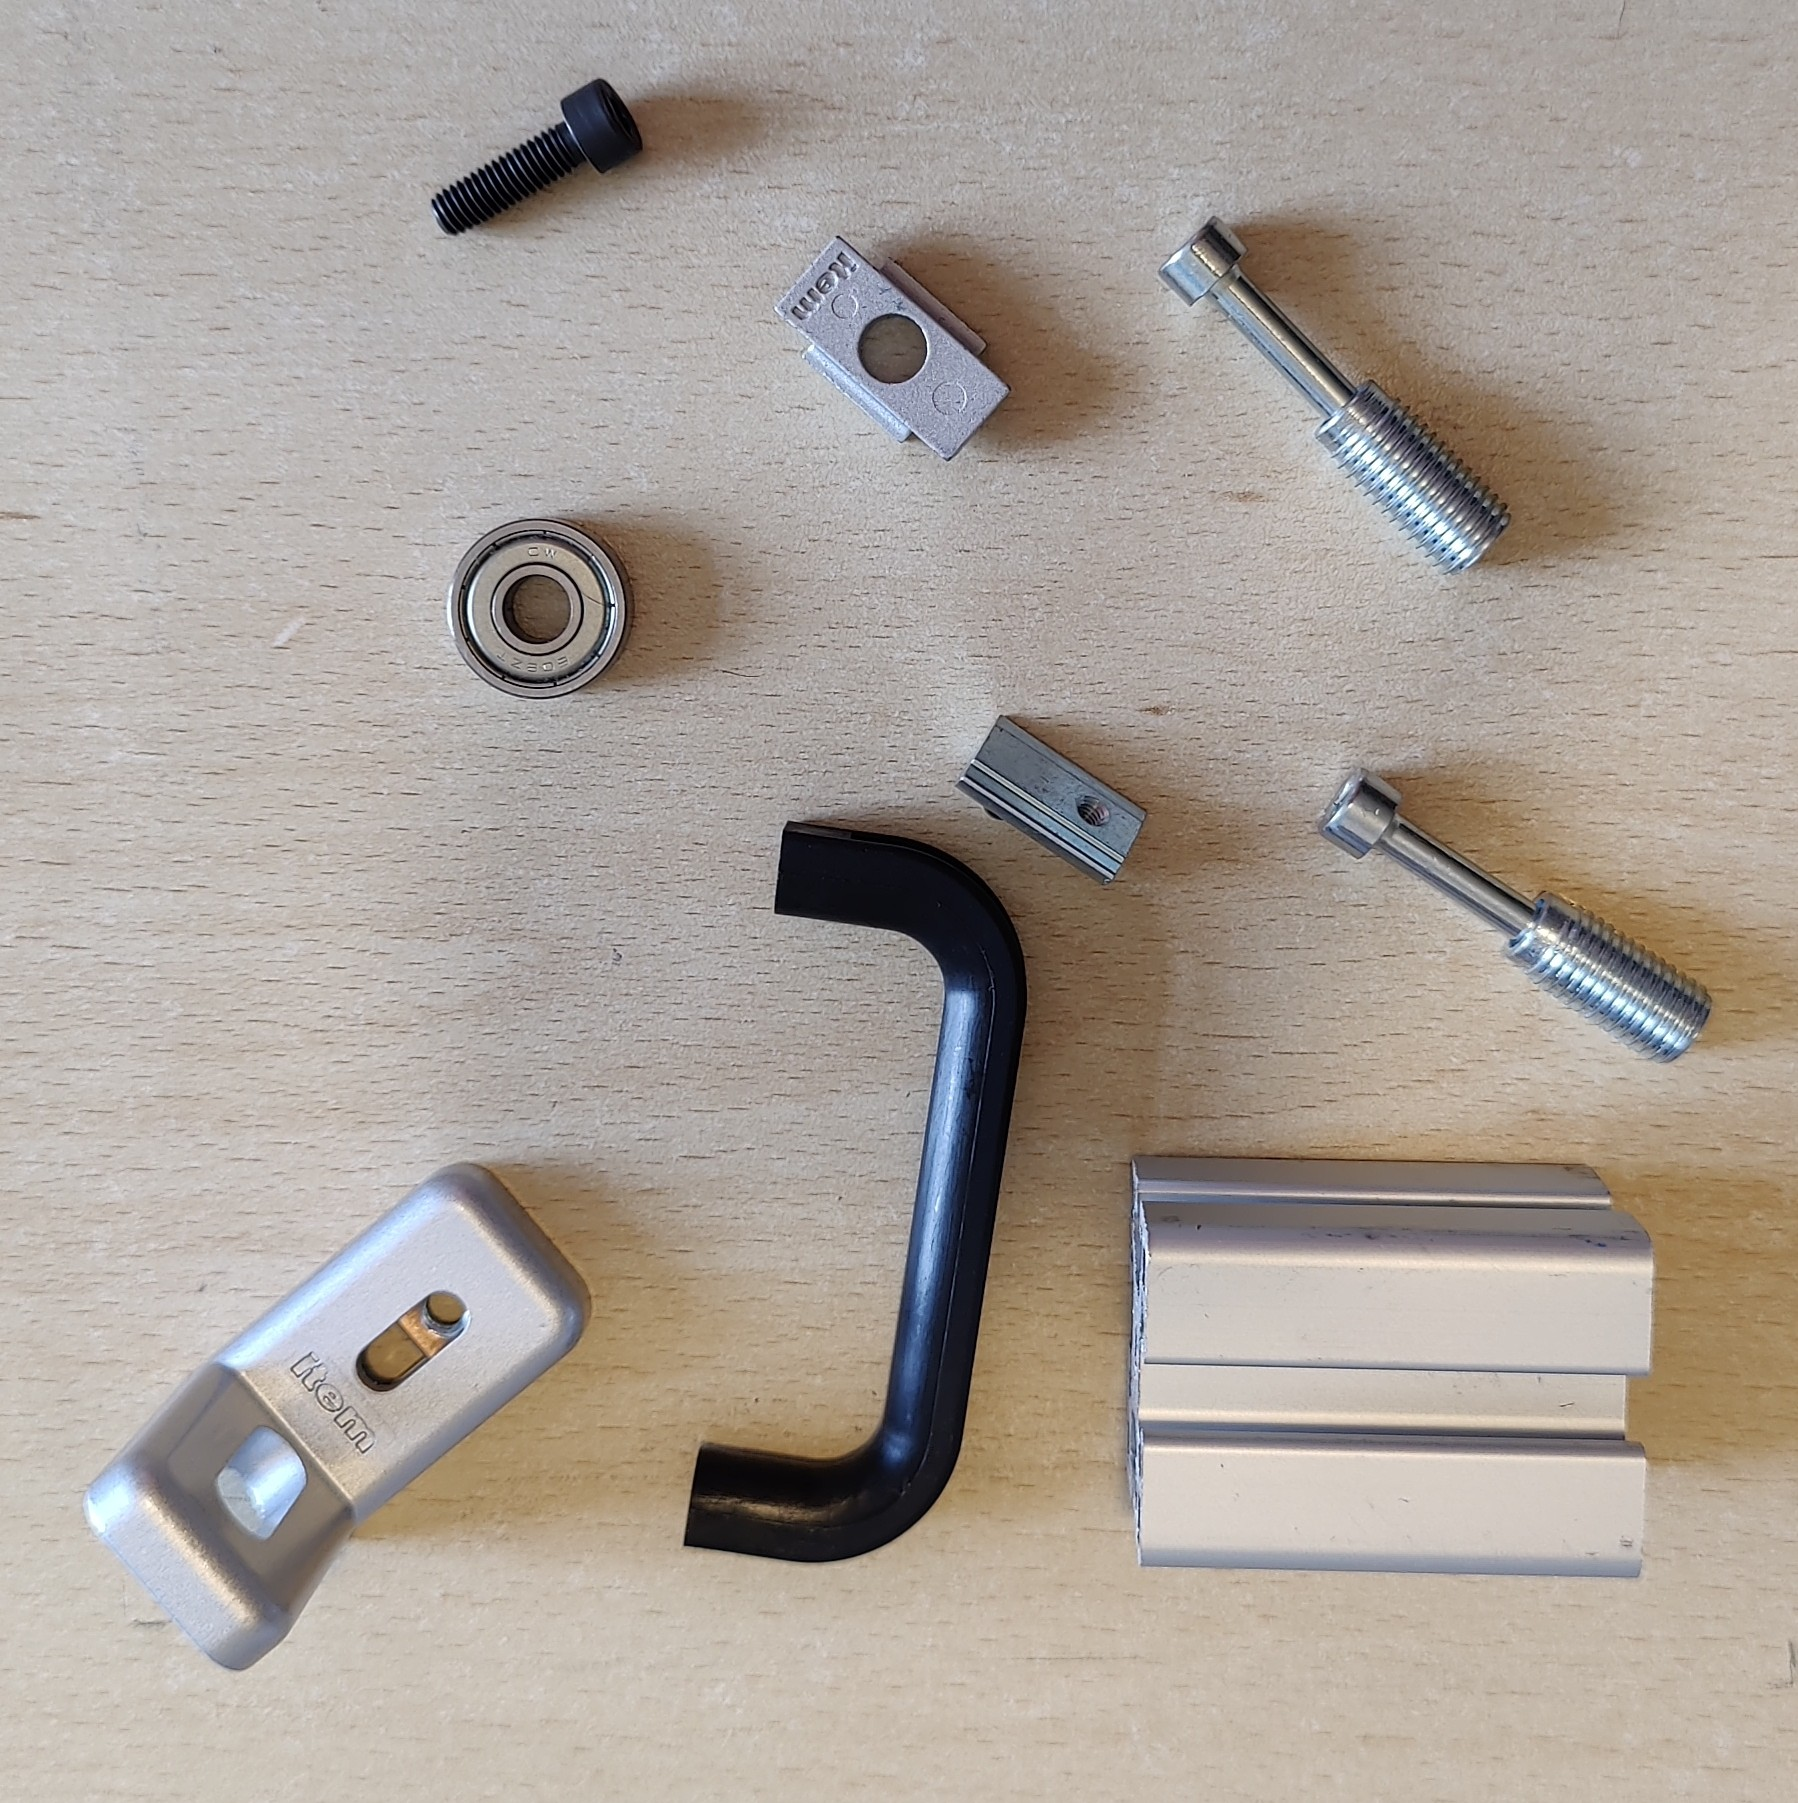Aluminium Extension: (1121, 1153, 1660, 1581)
Ball Bearing: (445, 515, 637, 701)
Multiwinkel: (81, 1159, 594, 1673)
Pull Handle: (677, 817, 1031, 1566)
Shoulder Socket Head Cap Screw: (1153, 212, 1516, 578), (1317, 766, 1716, 1067)
Socket Head Cap Screw: (428, 74, 645, 237)
T Nut Square: (772, 231, 1014, 464)
T Spring Nut: (952, 711, 1149, 889)
